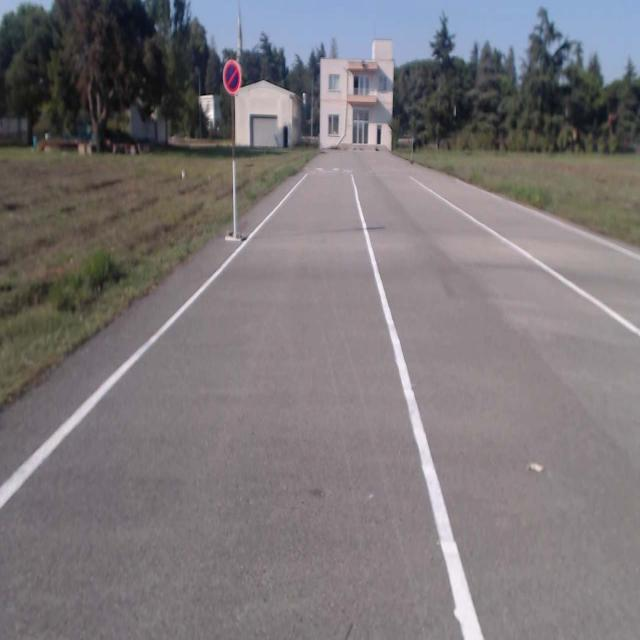parkyasak: (224, 62, 240, 92)
